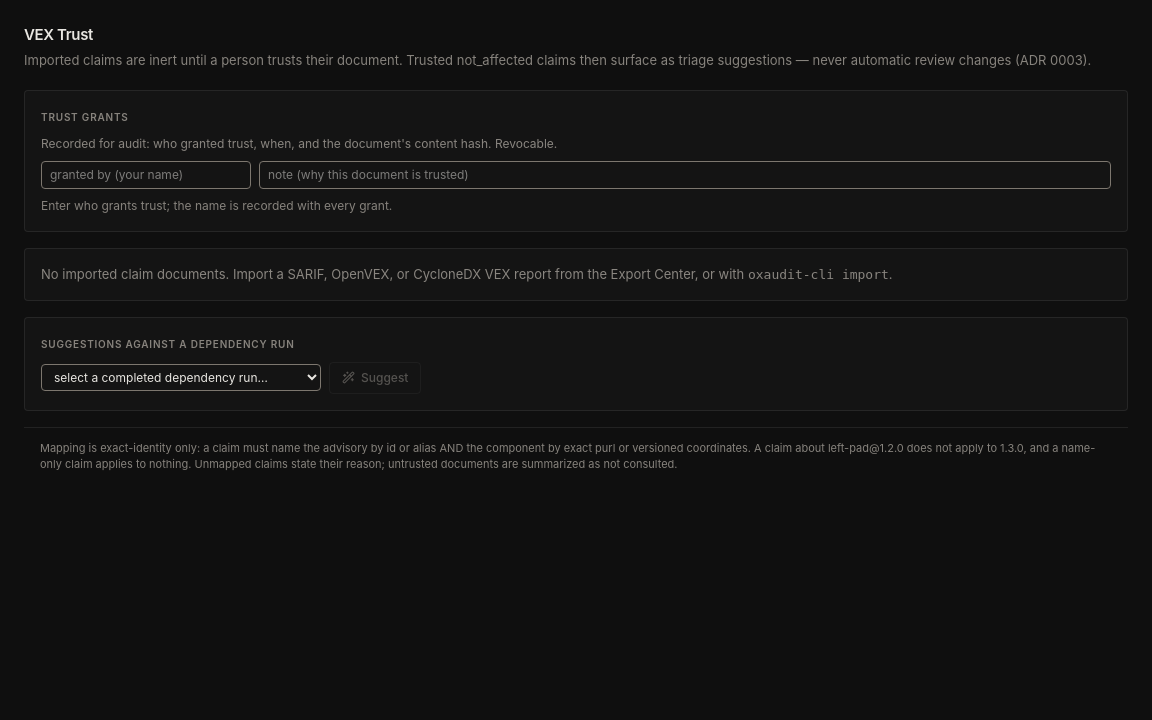
Test: retrying suggestions removes the previous error when it succeeds
Select "/repo · 1/1/1970, 12:00:00 AM" in the dropdown named "Dependency run": coordinates (181, 378) [41,364,321,391]
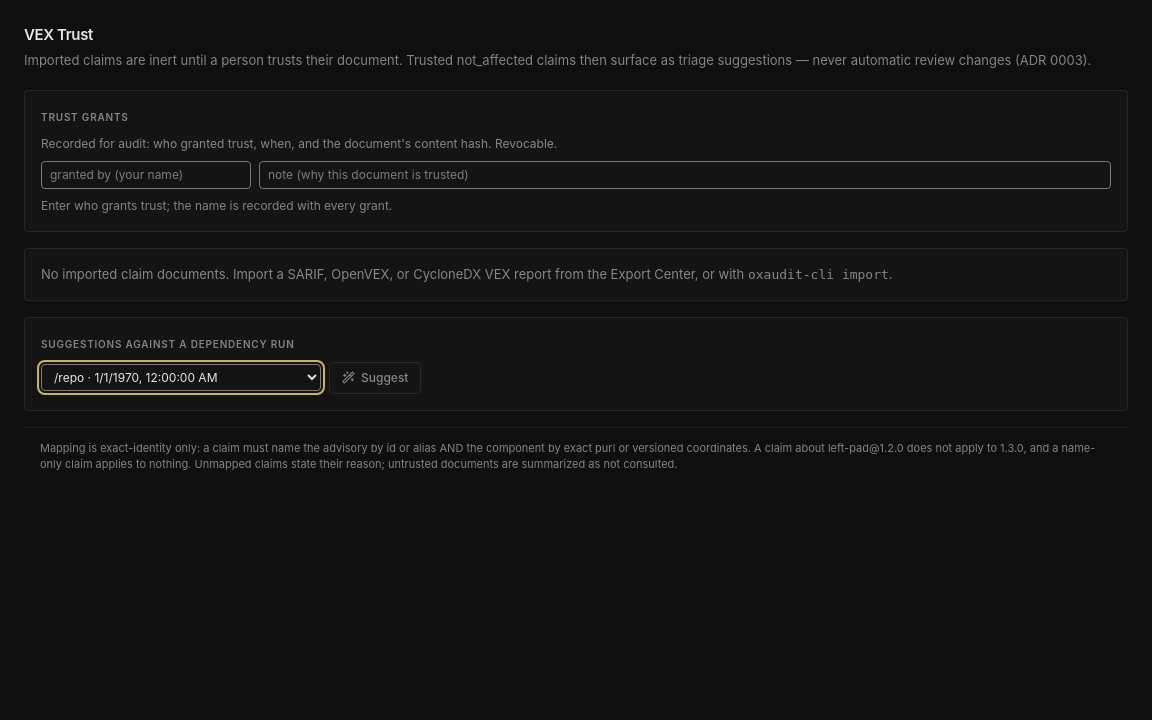
Click the button "Suggest": coordinates (375, 378) [329,362,421,394]
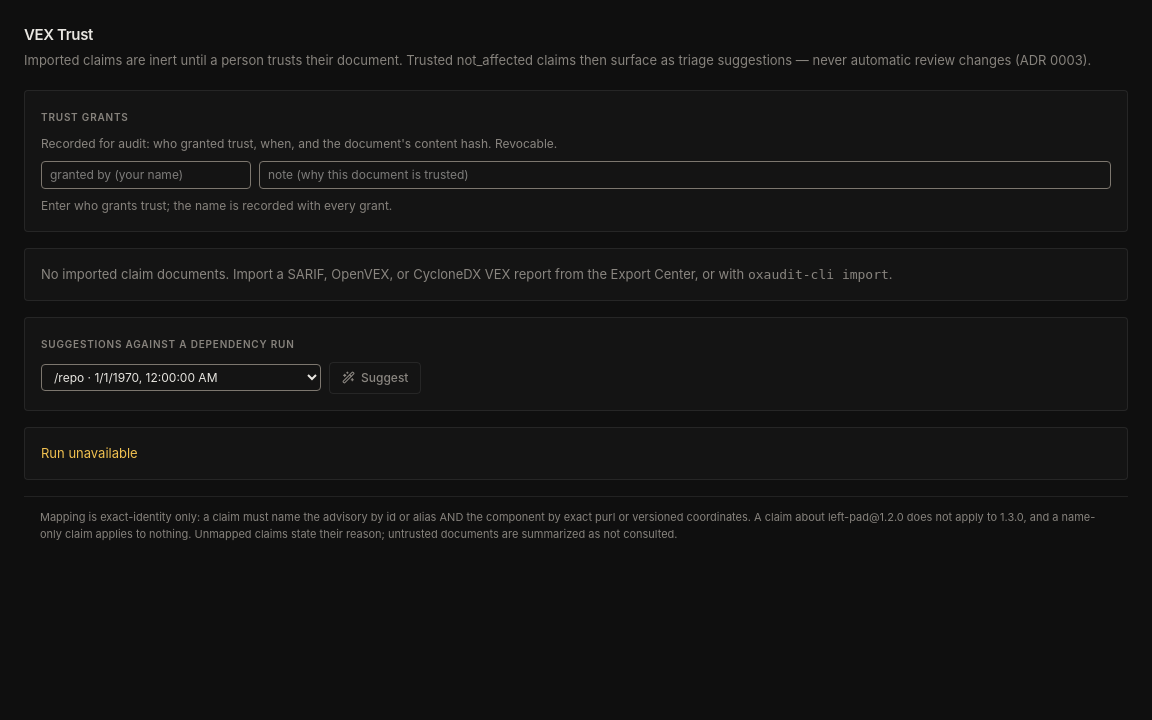
Expected: the text "Run unavailable" is shown, [24,426,1128,480]
Click the button "Suggest": coordinates (375, 378) [329,362,421,394]
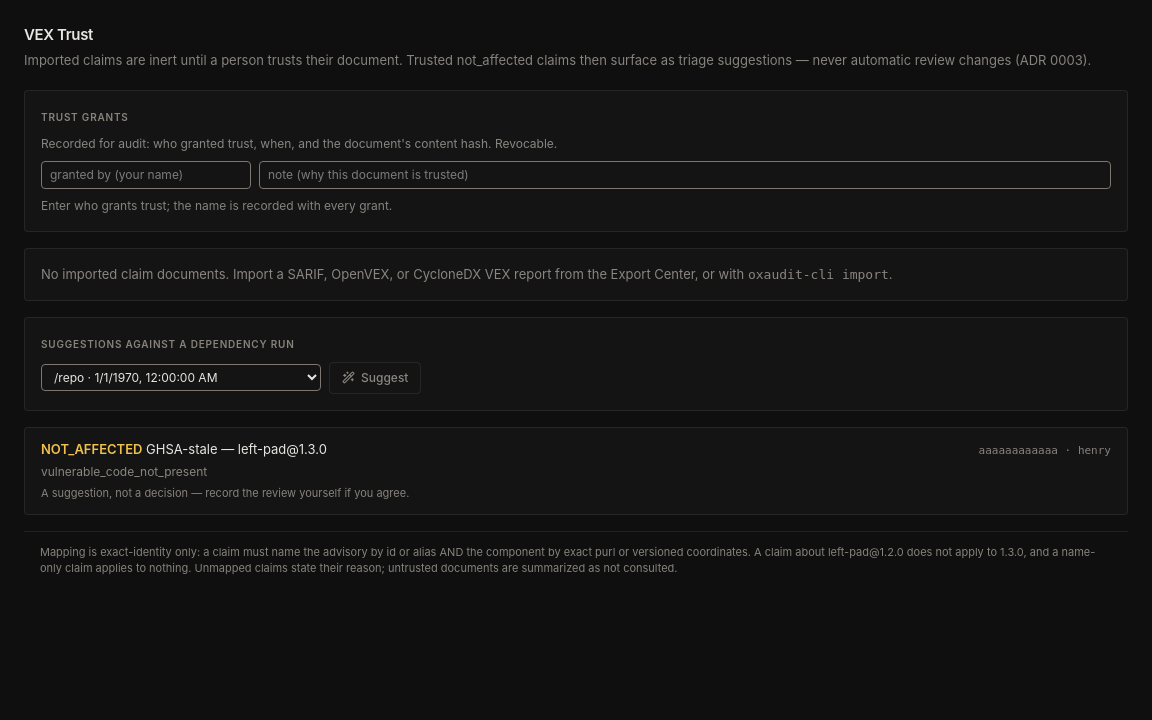
Expected: the text "not_affected GHSA-stale — left-pad@1.3.0" is shown, [41,440,327,459]
Expected: the text "Run unavailable" is gone
